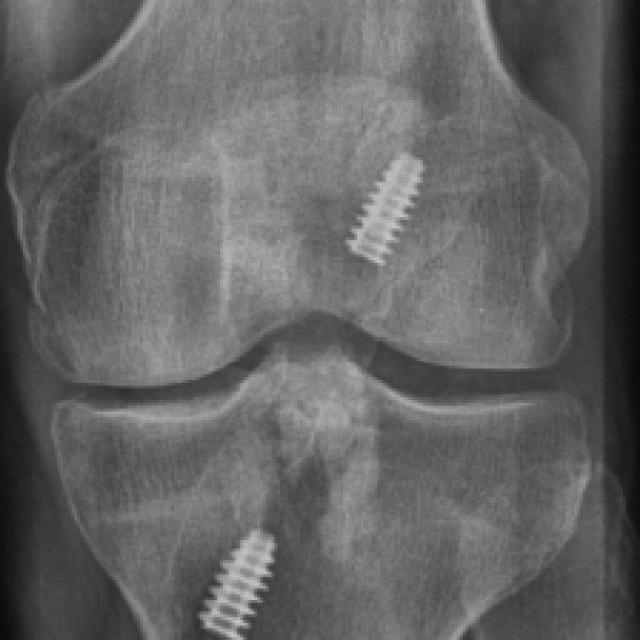femur: (4, 0, 592, 390)
tibia: (50, 342, 594, 640)
